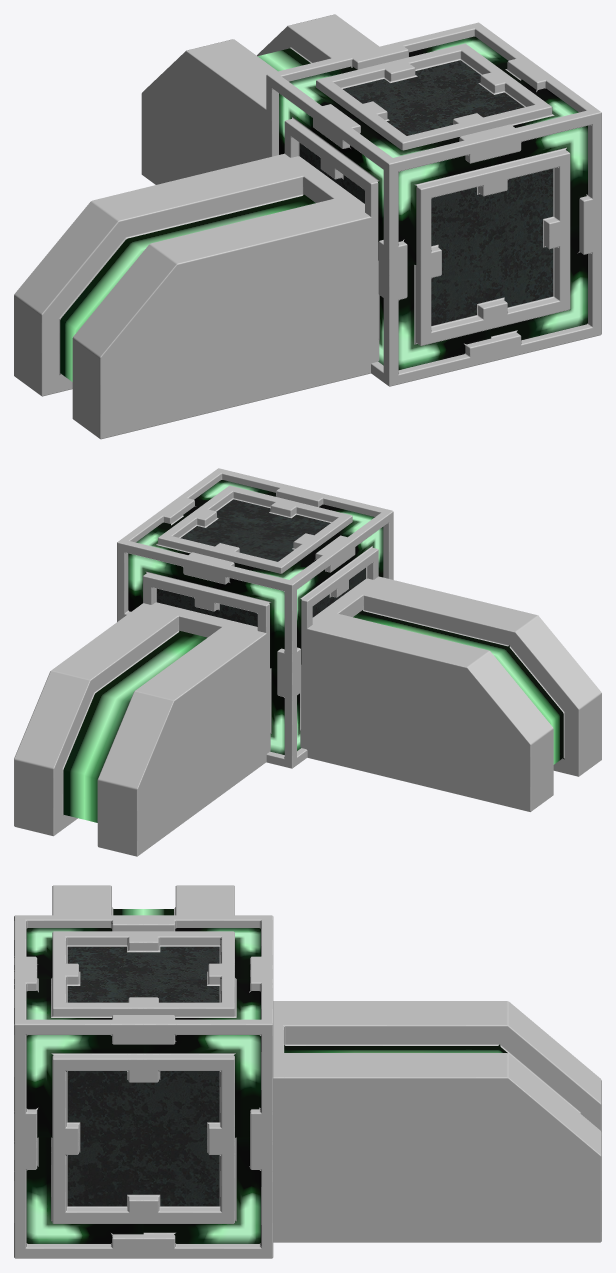
File: DetailPrecursorCorner.fbx
The picture shows the model from 3 angles, top to bottom: view 1: azimuth 30°, elevation 25°; view 2: azimuth 150°, elevation 25°; view 3: azimuth 270°, elevation 25°; orthographic projection. The views are drawn at different scales.
Visible parts, largest first — view 1: Plane.154; view 2: Plane.154; view 3: Plane.154.
Part boxes in pixels (left/top/right/bottom): Plane.154: left=14, top=14, right=601, bottom=439; Plane.154: left=14, top=468, right=601, bottom=856; Plane.154: left=14, top=885, right=601, bottom=1258.
Bounding box in the file's own units: 83.28 × 36.74 × 83.28.
